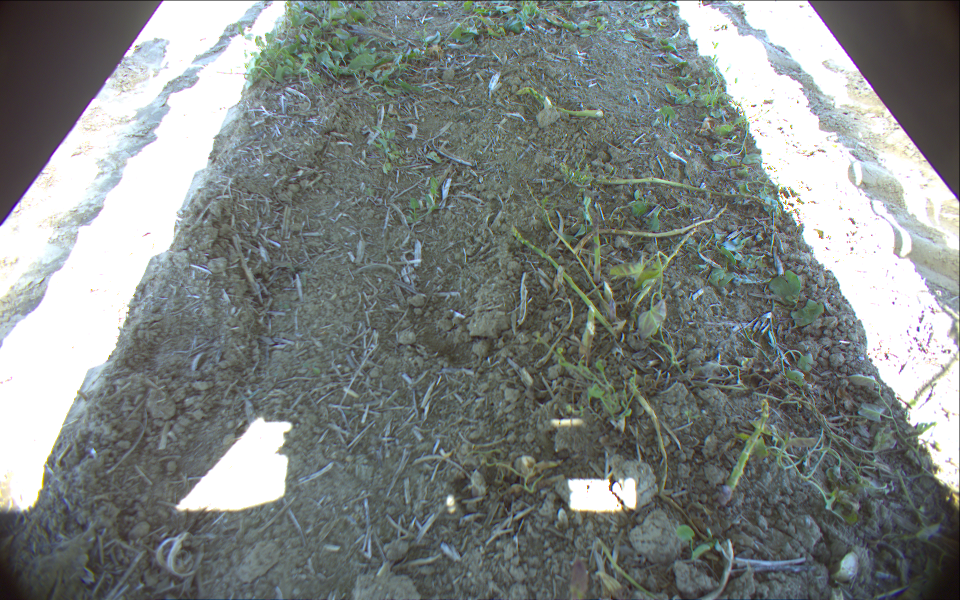aspa: (722, 396, 772, 497)
